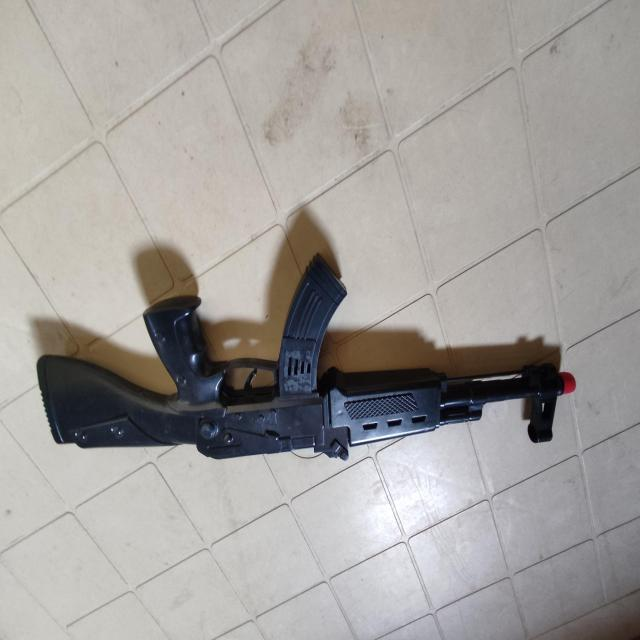rifle: (34, 254, 574, 470)
